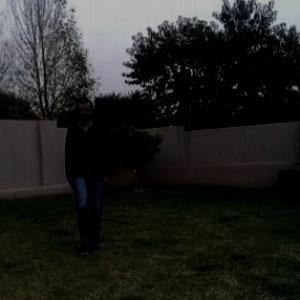follow: (67, 102, 113, 248)
